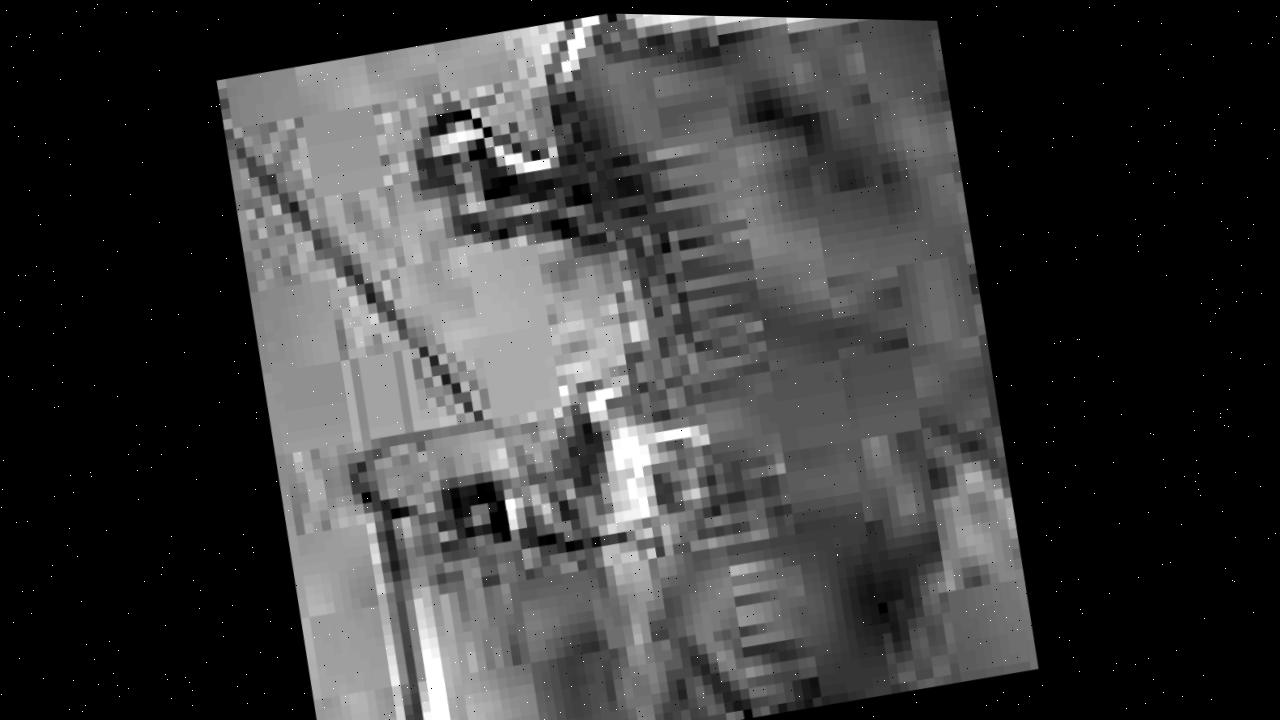Water Stains: (420, 8, 1007, 476)
